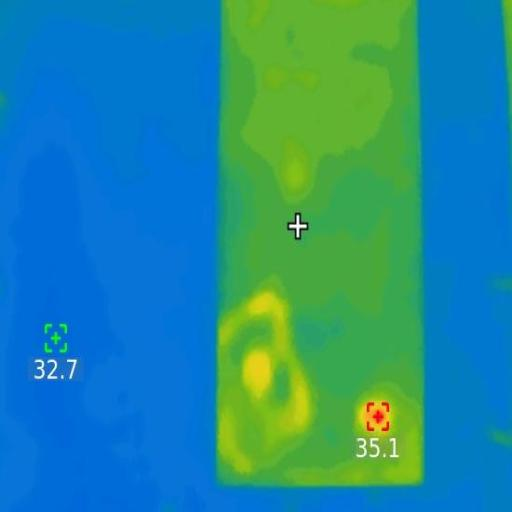hotspot: (372, 410, 386, 428)
